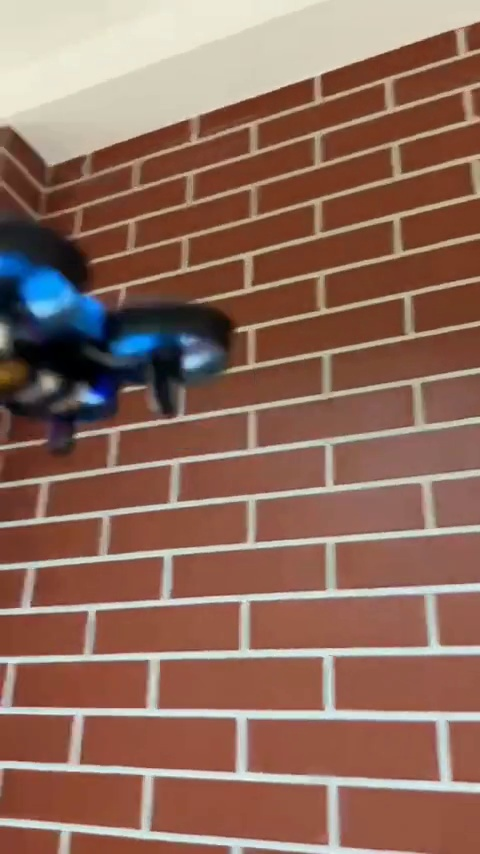drone: (0, 224, 239, 460)
